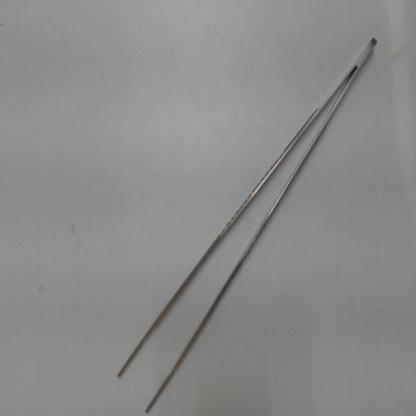DeBakey Dissector: (110, 24, 388, 415)
